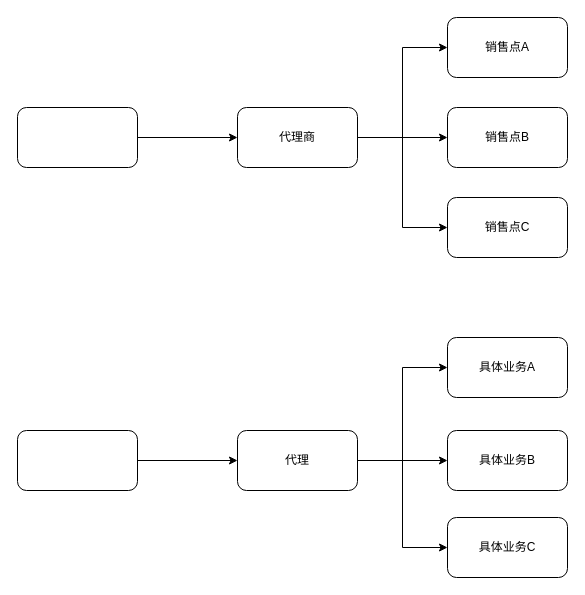
Image size: 585x595. Some labels were removed from this diagram. Each missing label, with the centre of its shape:
业务逻辑: point (77, 460)
生产商: point (77, 137)
